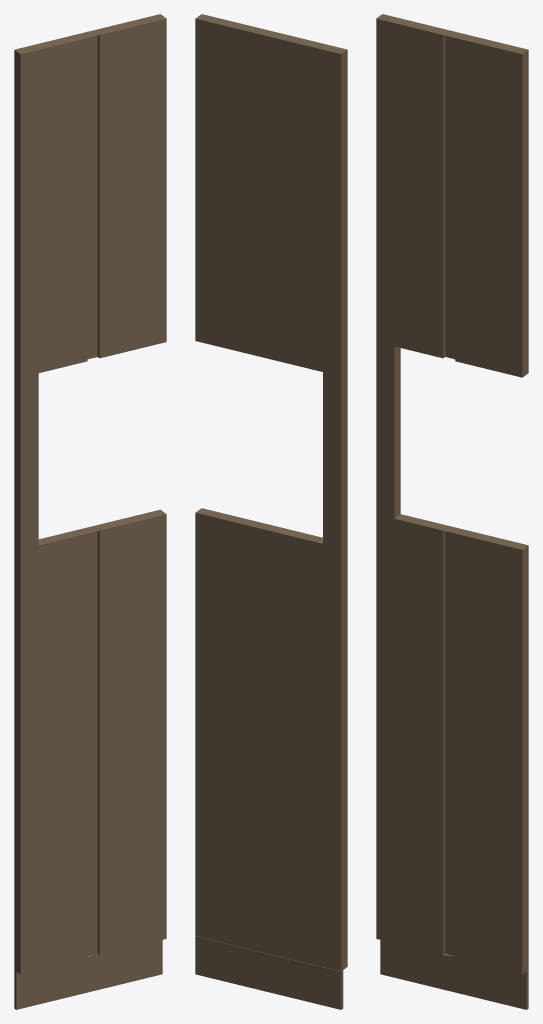
File: SK5_Side_Treatment_Dispaly_W2_Brown.FBX
3 views of the same model, side by side, from view 1: azimuth 30°, elevation 25°; view 2: azimuth 150°, elevation 25°; view 3: azimuth 330°, elevation 25° (orthographic).
Visible parts, largest first — view 1: SK5_Side_Treatment_Dispaly_W2_Brown; view 2: SK5_Side_Treatment_Dispaly_W2_Brown; view 3: SK5_Side_Treatment_Dispaly_W2_Brown.
Part boxes in pixels (x1,y1,x2,y2): SK5_Side_Treatment_Dispaly_W2_Brown: (14, 14, 166, 1009); SK5_Side_Treatment_Dispaly_W2_Brown: (195, 14, 347, 1009); SK5_Side_Treatment_Dispaly_W2_Brown: (376, 14, 528, 1009).
Bounding box in the file's own units: 41.63 × 261 × 3.12.
